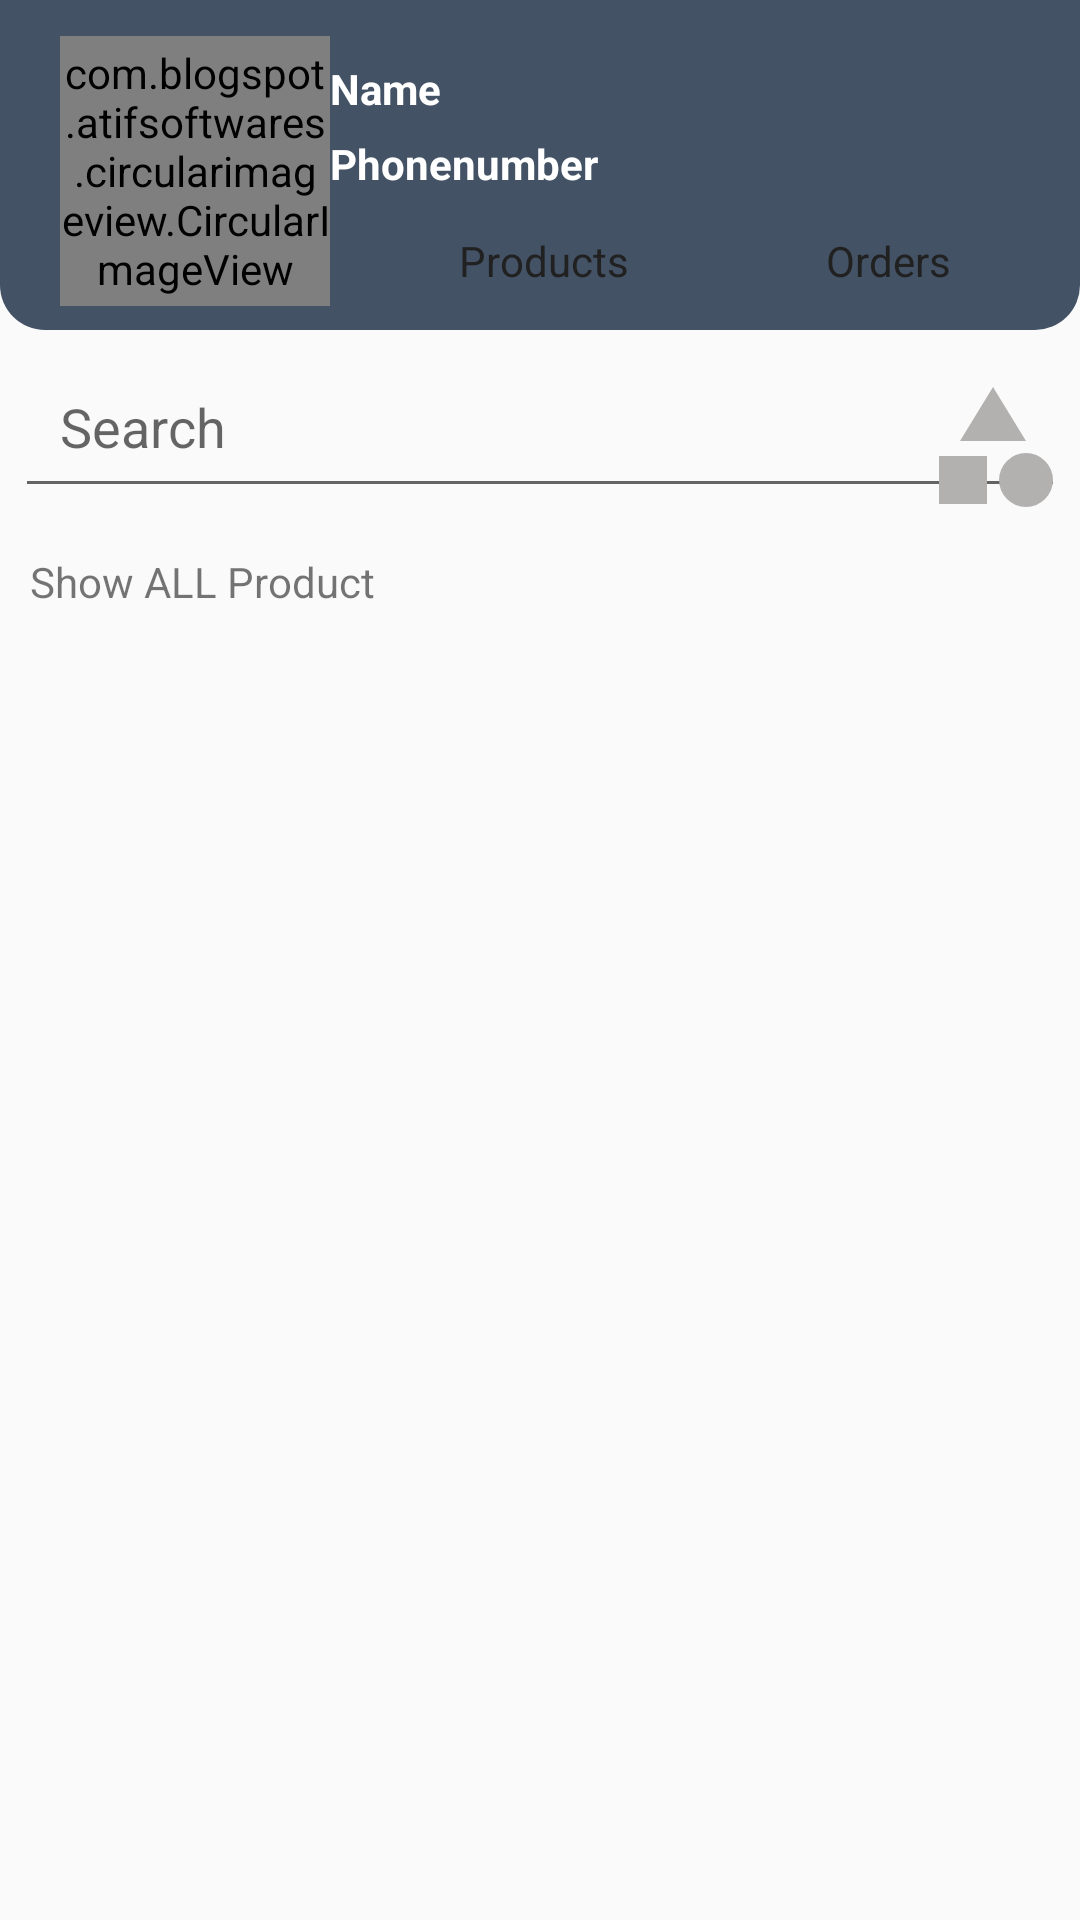

Where icons sit on this 1080×1920 app screen, as (x1, y1, x2, y2):
category: (921, 388, 1053, 507)
